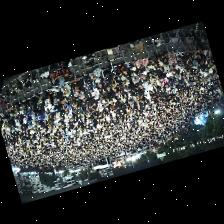person: (101, 54, 113, 79), (70, 76, 86, 94), (156, 50, 173, 64), (134, 56, 147, 70), (62, 87, 73, 103), (88, 67, 99, 82), (111, 70, 121, 86), (72, 85, 84, 98), (48, 86, 61, 98), (142, 81, 153, 95), (73, 100, 82, 117), (59, 80, 69, 95), (119, 74, 128, 90), (35, 92, 44, 108), (53, 98, 60, 117), (44, 91, 50, 113), (115, 63, 126, 75), (29, 96, 38, 110), (148, 68, 159, 79), (82, 80, 92, 92), (83, 73, 92, 86), (81, 97, 90, 110), (174, 48, 183, 61), (90, 84, 98, 98), (182, 49, 192, 60), (148, 57, 158, 68), (88, 95, 96, 108), (94, 76, 103, 87), (35, 109, 42, 123), (27, 108, 34, 122), (103, 79, 111, 91), (21, 100, 28, 113), (159, 77, 168, 87), (125, 61, 135, 70), (167, 58, 176, 68), (162, 64, 169, 76), (133, 79, 142, 88), (149, 77, 158, 86), (145, 64, 154, 73), (165, 50, 174, 59), (134, 67, 142, 77), (42, 111, 48, 124), (131, 71, 138, 82), (108, 98, 116, 107), (111, 82, 118, 92), (14, 118, 20, 129), (125, 68, 131, 79), (96, 100, 102, 111), (24, 109, 30, 120), (82, 89, 87, 102), (7, 106, 14, 115), (60, 60, 68, 67), (0, 109, 7, 117), (141, 70, 146, 79), (158, 61, 163, 70), (191, 46, 195, 57), (169, 65, 174, 73)
